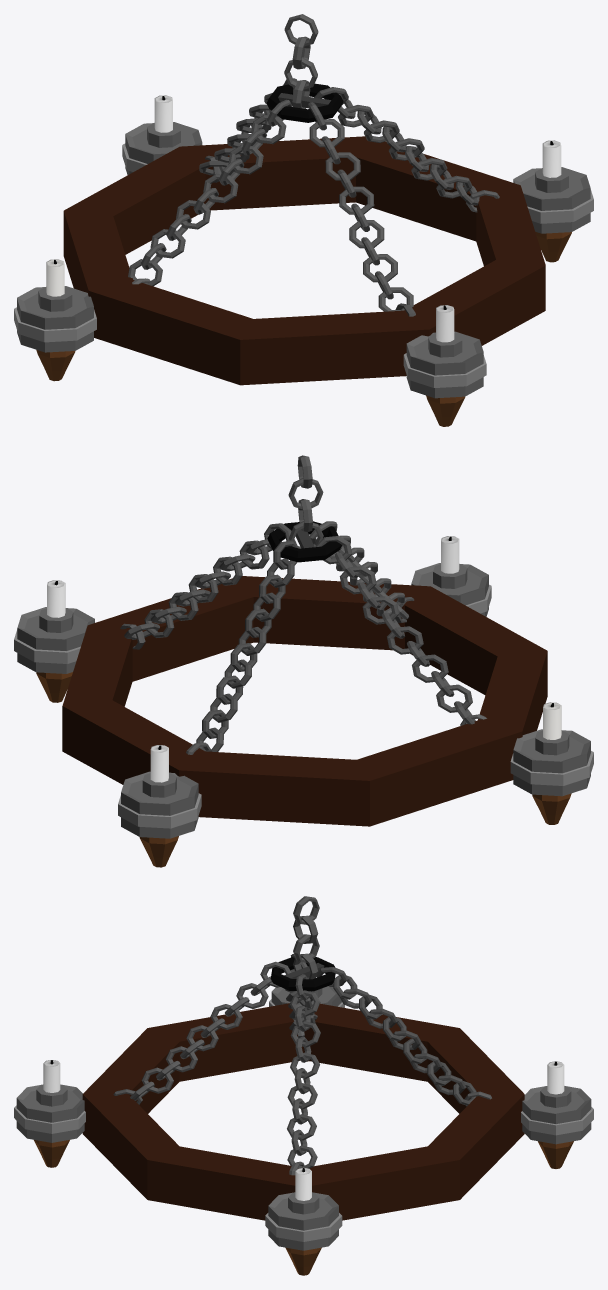
Rendered from Chandelier.fbx.
3 renders of one model, top to bottom at view 1: azimuth 30°, elevation 25°; view 2: azimuth 150°, elevation 25°; view 3: azimuth 270°, elevation 25°, orthographic. The views are drawn at different scales.
Visible parts, largest first — view 1: Cylinder, Candle.002, Candle.003, Candle.001, Chains.001, Chains.003, Chains.004, Candle.004, Chains.005, Chains.002, Torus.034; view 2: Cylinder, Candle.003, Candle.004, Candle.001, Chains.002, Chains.001, Chains.004, Candle.002, Chains.003, Chains.005, Torus.034; view 3: Cylinder, Candle.001, Candle.004, Candle.002, Chains.002, Chains.004, Chains.003, Chains.005, Torus.034, Candle.003, Chains.001.
Part boxes in pixels (bbox=[...]): Cylinder: bbox=[63, 136, 545, 385]; Candle.002: bbox=[403, 305, 486, 426]; Candle.003: bbox=[14, 259, 96, 381]; Candle.001: bbox=[513, 140, 593, 262]; Chains.001: bbox=[128, 99, 292, 286]; Chains.003: bbox=[308, 102, 413, 311]; Chains.004: bbox=[314, 87, 479, 205]; Candle.004: bbox=[122, 95, 202, 174]; Chains.005: bbox=[284, 14, 318, 108]; Chains.002: bbox=[199, 78, 297, 175]; Torus.034: bbox=[266, 83, 343, 122]; Cylinder: bbox=[62, 576, 547, 826]; Candle.003: bbox=[510, 702, 593, 824]; Candle.004: bbox=[118, 745, 201, 867]; Candle.001: bbox=[14, 580, 94, 702]; Chains.002: bbox=[196, 540, 299, 751]; Chains.001: bbox=[315, 536, 475, 724]; Chains.004: bbox=[124, 523, 291, 639]; Candle.002: bbox=[411, 536, 491, 616]; Chains.003: bbox=[309, 521, 409, 619]; Chains.005: bbox=[288, 455, 323, 548]; Torus.034: bbox=[267, 521, 342, 562]; Cylinder: bbox=[82, 1003, 524, 1220]; Candle.001: bbox=[265, 1167, 342, 1275]; Candle.004: bbox=[521, 1061, 593, 1168]; Candle.002: bbox=[14, 1060, 85, 1167]; Chains.002: bbox=[316, 967, 476, 1105]; Chains.004: bbox=[287, 974, 320, 1168]; Chains.003: bbox=[130, 961, 291, 1100]; Chains.005: bbox=[293, 896, 319, 979]; Torus.034: bbox=[270, 957, 335, 991]; Candle.003: bbox=[269, 986, 344, 1061]; Chains.001: bbox=[285, 954, 317, 1030].
Size of the model in its own units: 197 by 101 by 197.
